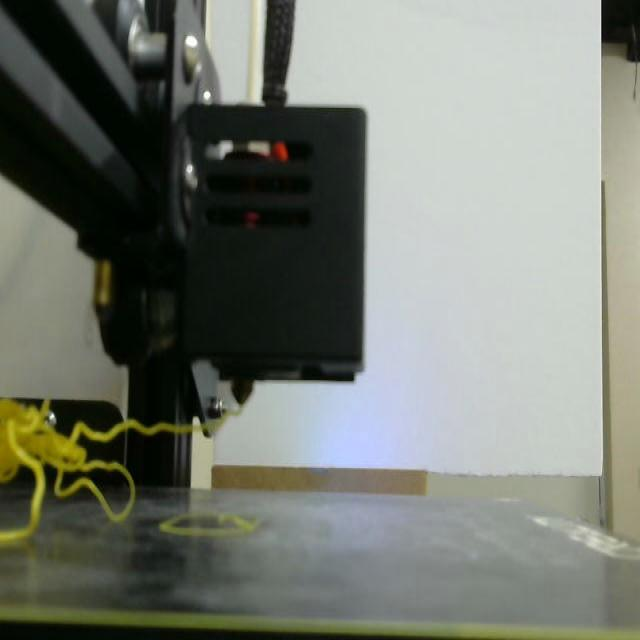spaghetti: (0, 400, 191, 544)
